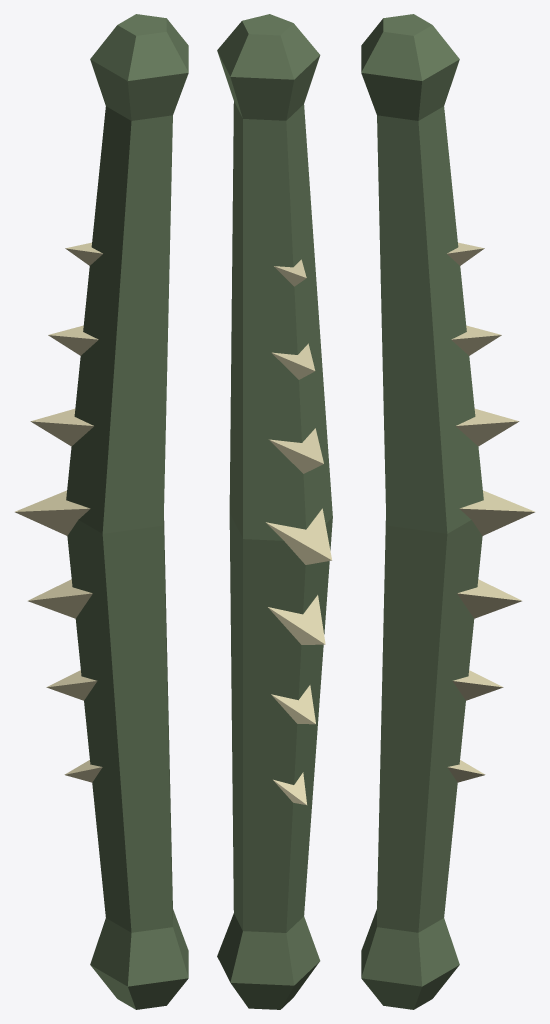
File: ScreecherLegLowerRF.fbx
The picture shows the model from 3 angles, left to right: view 1: azimuth 90°, elevation 25°; view 2: azimuth 210°, elevation 25°; view 3: azimuth 270°, elevation 25°; orthographic projection.
Parts seen in each view (by area): view 1: Forearm1; view 2: Forearm1; view 3: Forearm1.
Part boxes in pixels (<box>): Forearm1: <box>15,14,188,1009</box>; Forearm1: <box>217,14,332,1009</box>; Forearm1: <box>361,14,534,1009</box>.
Bounding box in the file's own units: 0.6791 × 7.03 × 1.14.
